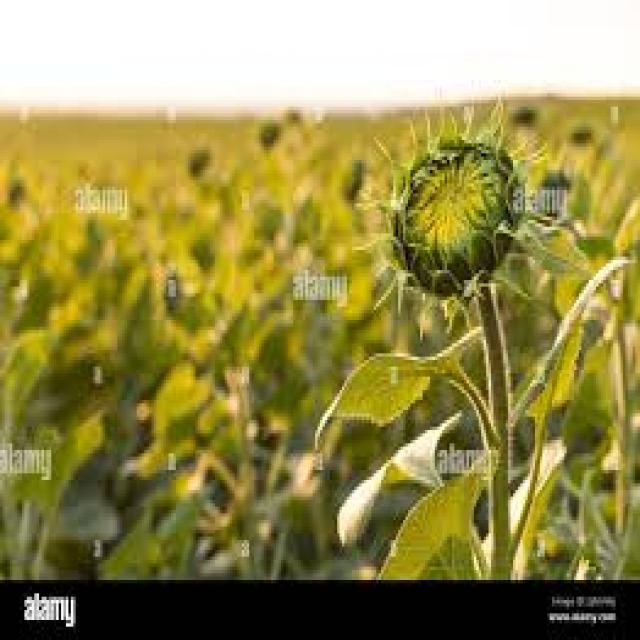Unbloomed: (383, 126, 522, 296)
